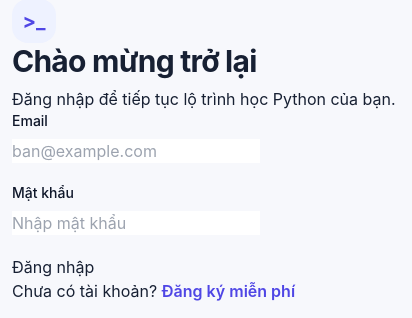
Scenario: LoginForm › disables the form while the request is pending
Type "learner@example.com" into the field labelled "Email".
click(136, 151); type("learner@example.com")  # box [12,139,260,163]
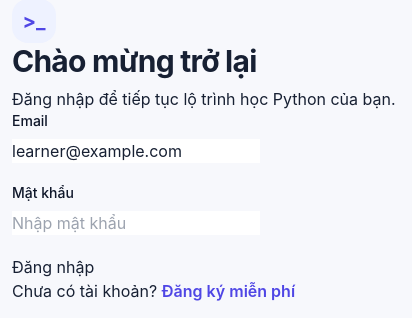
Type "StrongPassword123!" into the password field labelled "Mật khẩu".
click(136, 223); type("StrongPassword123!")  # box [12,211,260,235]
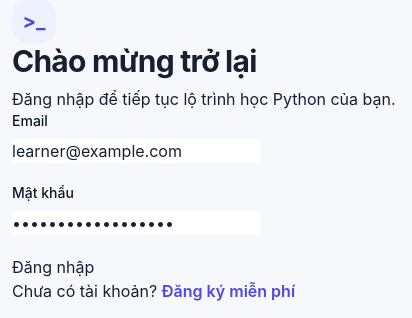
Click the button "Đăng nhập".
click(53, 267)  # box [12,255,94,279]
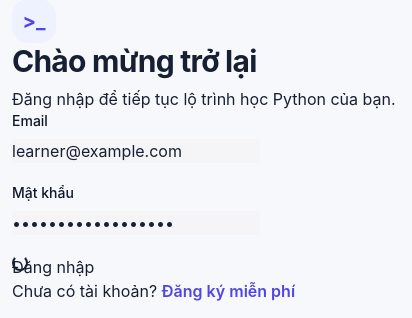
Expected: the field labelled "Email" is disabled, [12,139,260,163]
Expected: the button "Đăng nhập" is disabled, [12,255,94,279]
